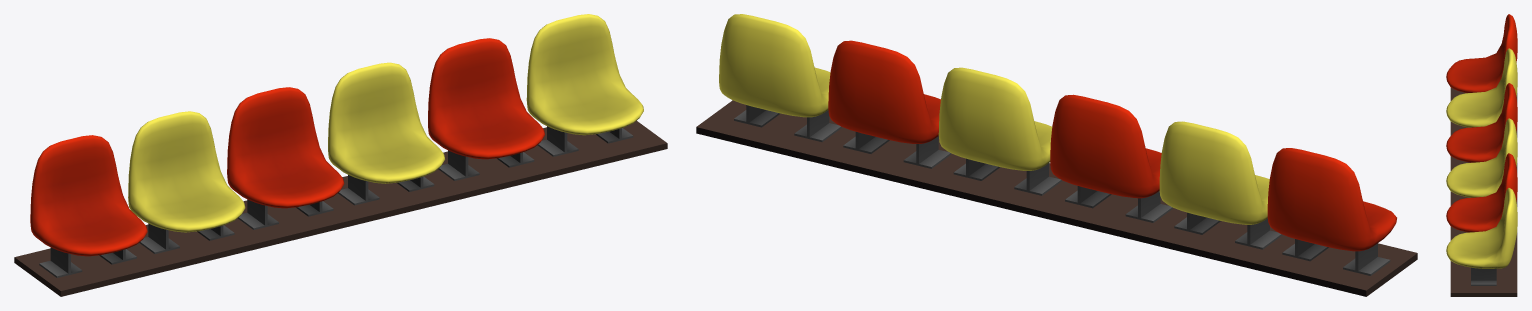
Rendered from StadiumChairs_Six.fbx.
3 renders of one model, left to right at view 1: azimuth 30°, elevation 25°; view 2: azimuth 150°, elevation 25°; view 3: azimuth 270°, elevation 25°, orthographic. The views are drawn at different scales.
Visible parts, largest first — view 1: StadiumChairs_Six; view 2: StadiumChairs_Six; view 3: StadiumChairs_Six.
Part boxes in pixels (left/top/right/bottom): StadiumChairs_Six: left=14, top=14, right=667, bottom=296; StadiumChairs_Six: left=696, top=14, right=1417, bottom=296; StadiumChairs_Six: left=1446, top=14, right=1517, bottom=296.
Bounding box in the file's own units: 470 × 84.77 × 66.82.
